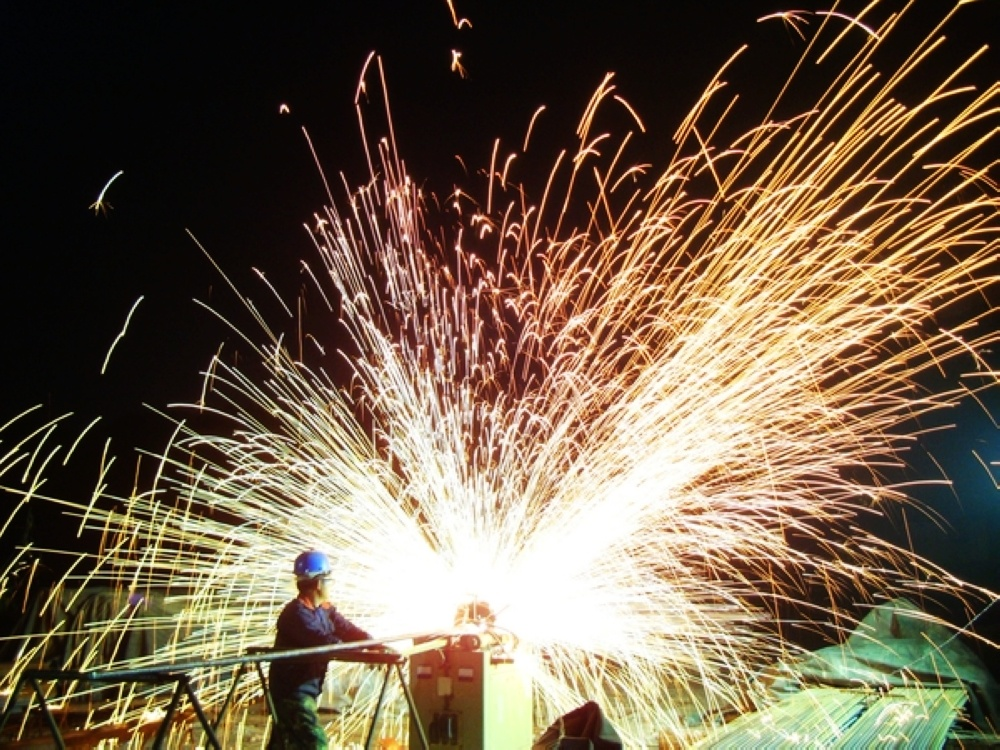blue: (291, 548, 336, 604)
